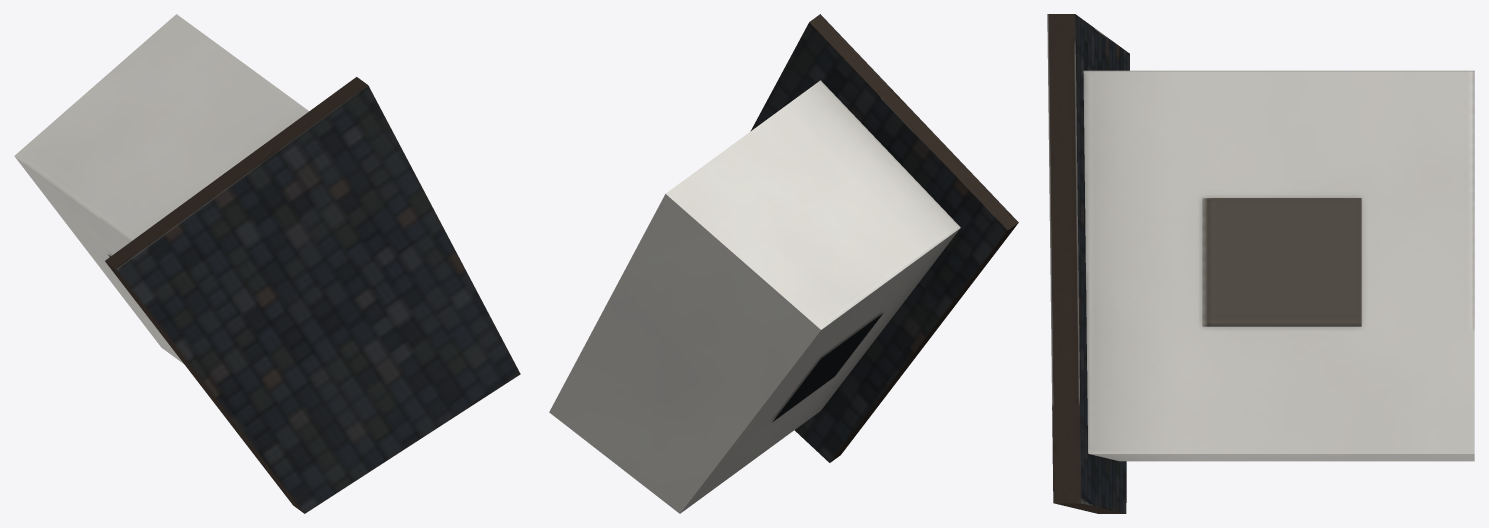
The model's file is house_b0510.obj.
3 renders of one model, left to right at view 1: azimuth 30°, elevation 25°; view 2: azimuth 150°, elevation 25°; view 3: azimuth 270°, elevation 25°, orthographic. The views are drawn at different scales.
Parts seen in each view (by area): view 1: house_b0510; view 2: house_b0510; view 3: house_b0510.
Boxes of the visible parts, x1,y1,x2,y2 form: house_b0510: (14,14,520,513); house_b0510: (549,14,1018,513); house_b0510: (1047,14,1474,513).
Bounding box in the file's own units: 4.6 × 4.96 × 3.66.
1 material, 1 textured.
